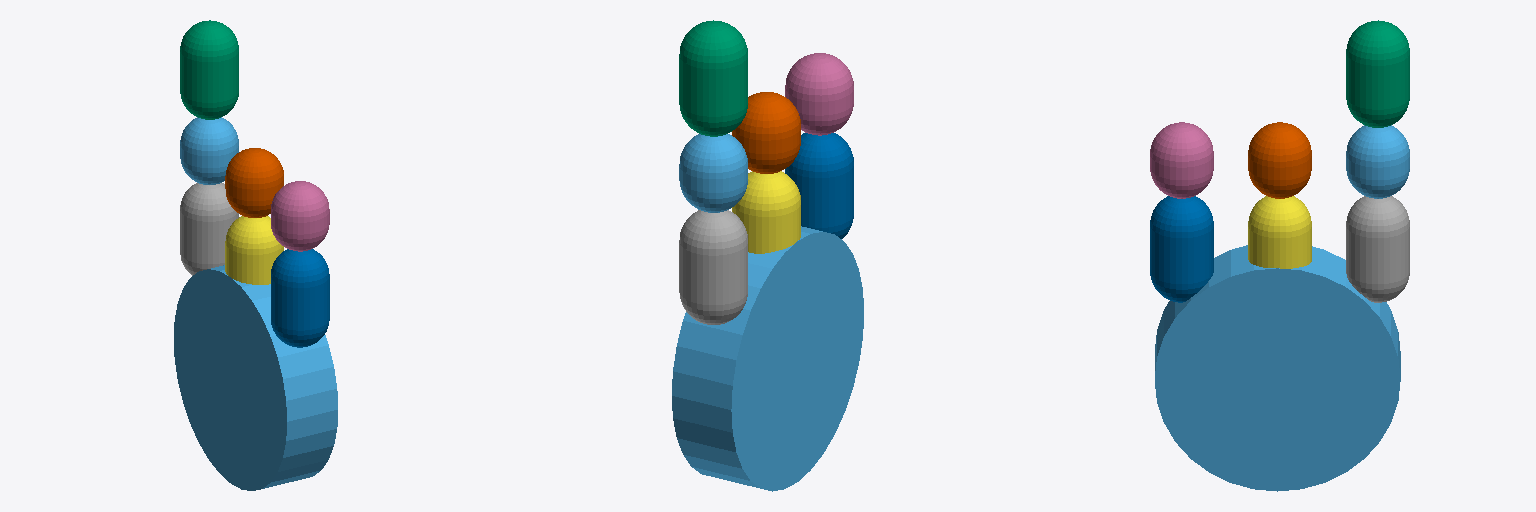
robot.urdf — DexterousHand:
<?xml version="1.0"?>
<robot name="DexterousHand">


    <link name="world"/>
    <joint name="world_to_palm" type="fixed">
        <parent link="world"/>
        <child link="palm"/>
        <origin xyz="0 0 0" rpy="0 0 0"/>
    </joint>
    <link name="palm">
        <inertial>
            <origin xyz="0 0 0.057" rpy="0 0 0"/>
            <mass value="0.30212892864"/>
            <inertia ixx="0.00049080844457568" ixy="0.0" ixz="0.0" iyy="0.00026746366246427523" iyz="0.0" izz="0.00026746366246427523"/>
        </inertial>
        <visual>
            <origin xyz="0 0 0.057" rpy="1.5708 0 1.5708"/>
            <geometry>
                <cylinder radius="0.057" length="0.0296"/>
            </geometry>
            <material name="default"/>
        </visual>
        <collision>
            <origin xyz="0 0 0.057" rpy="1.5708 0 1.5708"/>
            <geometry>
                <cylinder radius="0.057" length="0.0296"/>
            </geometry>
        </collision>
    </link>

    
    <joint name="thumb_joint1" type="revolute">
        <parent link="palm"/>
        <child link="thumb_base"/>
        <origin xyz="0.0 0.0 0.0" rpy="0.0 0.0 0.0"/>
        <axis xyz="1 0 0"/>
        <limit lower="0.0" upper="0.0" effort="1.0" velocity="1.0"/>
    </joint>

    <link name="thumb_base"></link>

    <joint name="thumb_joint2" type="revolute">
        <parent link="thumb_base"/>
        <child link="thumb_proximal"/>
        <origin xyz="0.0 0.0 0.0" rpy="0.0 0.0 0.0"/>
        <axis xyz="0 1 0"/>
        <limit lower="0.0" upper="0.0" effort="1.0" velocity="1.0"/>
    </joint>

    <link name="thumb_proximal">
    </link>

    <joint name="thumb_joint3" type="revolute">
        <parent link="thumb_proximal"/>
        <child link="thumb_knuckle"/>
        <origin xyz="0.0 0.0 0.0" rpy="0.0 0.0 0.0"/>
        <axis xyz="1 0 0"/>
        <limit lower="0.0" upper="0.0" effort="1.0" velocity="1.0"/>
    </joint>

    <link name="thumb_knuckle"></link>

    <joint name="thumb_joint4" type="revolute">
        <parent link="thumb_knuckle"/>
        <child link="thumb_middle"/>
        <origin xyz="0 0 0" rpy="0 0 0"/> 
        <axis xyz="0 1 0"/>
        <limit lower="0.0" upper="0.0" effort="1.0" velocity="1.0"/>
    </joint>

    <link name="thumb_middle">
    </link>

    <joint name="thumb_joint5" type="revolute">
        <parent link="thumb_middle"/>
        <child link="thumb_distal"/>
        <origin xyz="0 0 0" rpy="0 0 0"/> 
        <axis xyz="0 1 0"/>
        <limit lower="0.0" upper="0.0" effort="1.0" velocity="1.0"/>
    </joint>

    <link name="thumb_distal">
    </link>

    
    <joint name="index_joint1" type="revolute">
        <parent link="palm"/>
        <child link="index_proximal"/>
        <origin xyz="0.0 0.0465 0.091" rpy="0.0 0.0 0.0"/>
        <axis xyz="0 1 0"/>
        <limit lower="-0.314" upper="2.23" effort="1.0" velocity="1.0"/>
    </joint>

    <link name="index_proximal">
        <inertial>
            <origin xyz="0 0 0.02655" rpy="0 0 0"/>
            <mass value="0.036540024998400006"/>
            <inertia ixx="1.058665009272394e-05" ixy="0.0" ixz="0.0" 
            iyy="1.058665009272394e-05" iyz="0.0" izz="4.001863537824769e-06"/>
        </inertial>
        <visual>
            <origin xyz="0 0 0.02655" rpy="0 0 0"/>
            <geometry>
                <cylinder radius="0.0148" length="0.0235"/>
            </geometry>
            <material name="default"/>
        </visual>
        <visual>
            <origin xyz="0 0 0.0148" rpy="0 0 0"/>
            <geometry>
                <sphere radius="0.0148"/>
            </geometry>
            <material name="default"/>
        </visual>
        <visual>
            <origin xyz="0 0 0.0383" rpy="0 0 0"/>
            <geometry>
                <sphere radius="0.0148"/>
            </geometry>
            <material name="default"/>
        </visual>
        <collision>
            <origin xyz="0 0 0.02655" rpy="0 0 0"/>
            <geometry>
                <cylinder radius="0.0148" length="0.0235"/>
            </geometry>
        </collision>
        <collision>
            <origin xyz="0 0 0.0148" rpy="0 0 0"/>
            <geometry>
                <sphere radius="0.0148"/>
            </geometry>
        </collision>
        <collision>
            <origin xyz="0 0 0.0383" rpy="0 0 0"/>
            <geometry>
                <sphere radius="0.0148"/>
            </geometry>
        </collision>
    </link>

    <joint name="index_joint2" type="revolute">
        <parent link="index_proximal"/>
        <child link="index_dummy"/>
        <origin xyz="0.0 0.0 0.038" rpy="0.0 0.0 0.0"/>
        <axis xyz="1 0 0"/>
        <limit lower="-1.047" upper="1.047" effort="1.0" velocity="1.0"/>
    </joint>

    <link name="index_dummy"></link>

    <joint name="index_joint3" type="revolute">
        <parent link="index_dummy"/>
        <child link="index_middle"/>
        <origin xyz="0 0 0.015100000000000002" rpy="0 0 0"/>
        <axis xyz="0 1 0"/>
        <limit lower="-0.506" upper="1.885" effort="1.0" velocity="1.0"/>
    </joint>

    <link name="index_middle">
        <inertial>
            <origin xyz="0 0 0.01805" rpy="0 0 0"/>
            <mass value="0.0248417119104"/>
            <inertia ixx="4.058162759109537e-06" ixy="0.0" ixz="0.0" 
            iyy="4.058162759109537e-06" iyz="0.0" izz="2.7206642884270085e-06"/>
        </inertial>
        <visual>
            <origin xyz="0 0 0.01805" rpy="0 0 0"/>
            <geometry>
                <cylinder radius="0.0148" length="0.006499999999999999"/>
            </geometry>
            <material name="default"/>
        </visual>
        <visual>
            <origin xyz="0 0 0.0148" rpy="0 0 0"/>
            <geometry>
                <sphere radius="0.0148"/>
            </geometry>
            <material name="default"/>
        </visual>
        <visual>
            <origin xyz="0 0 0.0213" rpy="0 0 0"/>
            <geometry>
                <sphere radius="0.0148"/>
            </geometry>
            <material name="default"/>
        </visual>
        <collision>
            <origin xyz="0 0 0.01805" rpy="0 0 0"/>
            <geometry>
                <cylinder radius="0.0148" length="0.006499999999999999"/>
            </geometry>
        </collision>
        <collision>
            <origin xyz="0 0 0.0148" rpy="0 0 0"/>
            <geometry>
                <sphere radius="0.0148"/>
            </geometry>
        </collision>
        <collision>
            <origin xyz="0 0 0.0213" rpy="0 0 0"/>
            <geometry>
                <sphere radius="0.0148"/>
            </geometry>
        </collision>
    </link>

    <joint name="index_joint4" type="revolute">
        <parent link="index_middle"/>
        <child link="index_distal"/>
        <origin xyz="0 0 0.0361" rpy="0 0 0"/> 
        <axis xyz="0 1 0"/>
        <limit lower="-0.366" upper="2.042" effort="1.0" velocity="1.0"/>
    </joint>

    <link name="index_distal">
        <inertial>
            <origin xyz="0 0 0.026" rpy="0 0 0"/>
            <mass value="0.035783075328"/>
            <inertia ixx="1.002260084553728e-05" ixy="0.0" ixz="0.0" 
            iyy="1.002260084553728e-05" iyz="0.0" izz="3.91896240992256e-06"/>
        </inertial>
        <visual>
            <origin xyz="0 0 0.026" rpy="0 0 0"/>
            <geometry>
                <cylinder radius="0.0148" length="0.022399999999999996"/>
            </geometry>
            <material name="default"/>
        </visual>
        <visual>
            <origin xyz="0 0 0.0148" rpy="0 0 0"/>
            <geometry>
                <sphere radius="0.0148"/>
            </geometry>
            <material name="default"/>
        </visual>
        <visual>
            <origin xyz="0 0 0.0372" rpy="0 0 0"/>
            <geometry>
                <sphere radius="0.0148"/>
            </geometry>
            <material name="default"/>
        </visual>
        <collision>
            <origin xyz="0 0 0.026" rpy="0 0 0"/>
            <geometry>
                <cylinder radius="0.0148" length="0.022399999999999996"/>
            </geometry>
        </collision>
        <collision>
            <origin xyz="0 0 0.0148" rpy="0 0 0"/>
            <geometry>
                <sphere radius="0.0148"/>
            </geometry>
        </collision>
        <collision>
            <origin xyz="0 0 0.0372" rpy="0 0 0"/>
            <geometry>
                <sphere radius="0.0148"/>
            </geometry>
        </collision>
    </link>

    
    <joint name="middle_joint1" type="revolute">
        <parent link="palm"/>
        <child link="middle_proximal"/>
        <origin xyz="0.0 0.0011 0.091" rpy="0.0 0.0 0.0"/>
        <axis xyz="0 1 0"/>
        <limit lower="-0.314" upper="2.23" effort="1.0" velocity="1.0"/>
    </joint>

    <link name="middle_proximal">
        <inertial>
            <origin xyz="0 0 0.02655" rpy="0 0 0"/>
            <mass value="0.036540024998400006"/>
            <inertia ixx="1.058665009272394e-05" ixy="0.0" ixz="0.0" 
            iyy="1.058665009272394e-05" iyz="0.0" izz="4.001863537824769e-06"/>
        </inertial>
        <visual>
            <origin xyz="0 0 0.02655" rpy="0 0 0"/>
            <geometry>
                <cylinder radius="0.0148" length="0.0235"/>
            </geometry>
            <material name="default"/>
        </visual>
        <visual>
            <origin xyz="0 0 0.0148" rpy="0 0 0"/>
            <geometry>
                <sphere radius="0.0148"/>
            </geometry>
            <material name="default"/>
        </visual>
        <visual>
            <origin xyz="0 0 0.0383" rpy="0 0 0"/>
            <geometry>
                <sphere radius="0.0148"/>
            </geometry>
            <material name="default"/>
        </visual>
        <collision>
            <origin xyz="0 0 0.02655" rpy="0 0 0"/>
            <geometry>
                <cylinder radius="0.0148" length="0.0235"/>
            </geometry>
        </collision>
        <collision>
            <origin xyz="0 0 0.0148" rpy="0 0 0"/>
            <geometry>
                <sphere radius="0.0148"/>
            </geometry>
        </collision>
        <collision>
            <origin xyz="0 0 0.0383" rpy="0 0 0"/>
            <geometry>
                <sphere radius="0.0148"/>
            </geometry>
        </collision>
    </link>

    <joint name="middle_joint2" type="revolute">
        <parent link="middle_proximal"/>
        <child link="middle_dummy"/>
        <origin xyz="0.0 0.0 0.038" rpy="0.0 0.0 0.0"/>
        <axis xyz="1 0 0"/>
        <limit lower="-1.047" upper="1.047" effort="1.0" velocity="1.0"/>
    </joint>

    <link name="middle_dummy"></link>

    <joint name="middle_joint3" type="revolute">
        <parent link="middle_dummy"/>
        <child link="middle_middle"/>
        <origin xyz="0 0 0.015100000000000002" rpy="0 0 0"/>
        <axis xyz="0 1 0"/>
        <limit lower="-0.506" upper="1.885" effort="1.0" velocity="1.0"/>
    </joint>

    <link name="middle_middle">
        <inertial>
            <origin xyz="0 0 0.01805" rpy="0 0 0"/>
            <mass value="0.0248417119104"/>
            <inertia ixx="4.058162759109537e-06" ixy="0.0" ixz="0.0" 
            iyy="4.058162759109537e-06" iyz="0.0" izz="2.7206642884270085e-06"/>
        </inertial>
        <visual>
            <origin xyz="0 0 0.01805" rpy="0 0 0"/>
            <geometry>
                <cylinder radius="0.0148" length="0.006499999999999999"/>
            </geometry>
            <material name="default"/>
        </visual>
        <visual>
            <origin xyz="0 0 0.0148" rpy="0 0 0"/>
            <geometry>
                <sphere radius="0.0148"/>
            </geometry>
            <material name="default"/>
        </visual>
        <visual>
            <origin xyz="0 0 0.0213" rpy="0 0 0"/>
            <geometry>
                <sphere radius="0.0148"/>
            </geometry>
            <material name="default"/>
        </visual>
        <collision>
            <origin xyz="0 0 0.01805" rpy="0 0 0"/>
            <geometry>
                <cylinder radius="0.0148" length="0.006499999999999999"/>
            </geometry>
        </collision>
        <collision>
            <origin xyz="0 0 0.0148" rpy="0 0 0"/>
            <geometry>
                <sphere radius="0.0148"/>
            </geometry>
        </collision>
        <collision>
            <origin xyz="0 0 0.0213" rpy="0 0 0"/>
            <geometry>
                <sphere radius="0.0148"/>
            </geometry>
        </collision>
    </link>

    <joint name="middle_joint4" type="revolute">
        <parent link="middle_middle"/>
        <child link="middle_distal"/>
        <origin xyz="0 0 0.0361" rpy="0 0 0"/> 
        <axis xyz="0 1 0"/>
        <limit lower="0.0" upper="0.0" effort="1.0" velocity="1.0"/>
    </joint>

    <link name="middle_distal">
    </link>

    
    <joint name="ring_joint1" type="revolute">
        <parent link="palm"/>
        <child link="ring_proximal"/>
        <origin xyz="0.0 0.0 0.0" rpy="0.0 0.0 0.0"/>
        <axis xyz="1 0 0"/>
        <limit lower="0.0" upper="0.0" effort="1.0" velocity="1.0"/>
    </joint>

    <link name="ring_proximal">
    </link>

    <joint name="ring_joint2" type="revolute">
        <parent link="ring_proximal"/>
        <child link="ring_dummy"/>
        <origin xyz="0.0 0.0 0.0" rpy="0.0 0.0 0.0"/>
        <axis xyz="0 1 0"/>
        <limit lower="0.0" upper="0.0" effort="1.0" velocity="1.0"/>
    </joint>

    <link name="ring_dummy"></link>

    <joint name="ring_joint3" type="revolute">
        <parent link="ring_dummy"/>
        <child link="ring_middle"/>
        <origin xyz="0 0 0" rpy="0 0 0"/>
        <axis xyz="0 1 0"/>
        <limit lower="0.0" upper="0.0" effort="1.0" velocity="1.0"/>
    </joint>

    <link name="ring_middle">
    </link>

    <joint name="ring_joint4" type="revolute">
        <parent link="ring_middle"/>
        <child link="ring_distal"/>
        <origin xyz="0 0 0" rpy="0 0 0"/> 
        <axis xyz="0 1 0"/>
        <limit lower="0.0" upper="0.0" effort="1.0" velocity="1.0"/>
    </joint>

    <link name="ring_distal">
    </link>

    
    <joint name="little_joint0" type="revolute">
        <parent link="palm"/>
        <child link="little_base"/>
        <origin xyz="0.0 0.0 0.0" rpy="0.0 0.0 0.0"/>
        <axis xyz="0 1 0"/>
        <limit lower="0.0" upper="0.0" effort="1.0" velocity="1.0"/>
    </joint>

    <link name="little_base"></link>

    <joint name="little_joint1" type="revolute">
        <parent link="little_base"/>
        <child link="little_proximal"/>
        <origin xyz="0.0 -0.0443 0.091" rpy="-0.0 -0.0 -0.0"/>
        <axis xyz="0 1 0"/>
        <limit lower="-0.314" upper="2.23" effort="1.0" velocity="1.0"/>
    </joint>

    <link name="little_proximal">
        <inertial>
            <origin xyz="0 0 0.02655" rpy="0 0 0"/>
            <mass value="0.036540024998400006"/>
            <inertia ixx="1.058665009272394e-05" ixy="0.0" ixz="0.0" 
            iyy="1.058665009272394e-05" iyz="0.0" izz="4.001863537824769e-06"/>
        </inertial>
        <visual>
            <origin xyz="0 0 0.02655" rpy="0 0 0"/>
            <geometry>
                <cylinder radius="0.0148" length="0.0235"/>
            </geometry>
            <material name="default"/>
        </visual>
        <visual>
            <origin xyz="0 0 0.0148" rpy="0 0 0"/>
            <geometry>
                <sphere radius="0.0148"/>
            </geometry>
            <material name="default"/>
        </visual>
        <visual>
            <origin xyz="0 0 0.0383" rpy="0 0 0"/>
            <geometry>
                <sphere radius="0.0148"/>
            </geometry>
            <material name="default"/>
        </visual>
        <collision>
            <origin xyz="0 0 0.02655" rpy="0 0 0"/>
            <geometry>
                <cylinder radius="0.0148" length="0.0235"/>
            </geometry>
        </collision>
        <collision>
            <origin xyz="0 0 0.0148" rpy="0 0 0"/>
            <geometry>
                <sphere radius="0.0148"/>
            </geometry>
        </collision>
        <collision>
            <origin xyz="0 0 0.0383" rpy="0 0 0"/>
            <geometry>
                <sphere radius="0.0148"/>
            </geometry>
        </collision>
    </link>

    <joint name="little_joint2" type="revolute">
        <parent link="little_proximal"/>
        <child link="little_dummy"/>
        <origin xyz="0.0 0.0 0.038" rpy="0.0 0.0 0.0"/>
        <axis xyz="1 0 0"/>
        <limit lower="-1.047" upper="1.047" effort="1.0" velocity="1.0"/>
    </joint>

    <link name="little_dummy"></link>

    <joint name="little_joint3" type="revolute">
        <parent link="little_dummy"/>
        <child link="little_middle"/>
        <origin xyz="0 0 0.015100000000000002" rpy="0 0 0"/>
        <axis xyz="0 1 0"/>
        <limit lower="-0.506" upper="1.885" effort="1.0" velocity="1.0"/>
    </joint>

    <link name="little_middle">
        <inertial>
            <origin xyz="0 0 0.01805" rpy="0 0 0"/>
            <mass value="0.0248417119104"/>
            <inertia ixx="4.058162759109537e-06" ixy="0.0" ixz="0.0" 
            iyy="4.058162759109537e-06" iyz="0.0" izz="2.7206642884270085e-06"/>
        </inertial>
        <visual>
            <origin xyz="0 0 0.01805" rpy="0 0 0"/>
            <geometry>
                <cylinder radius="0.0148" length="0.006499999999999999"/>
            </geometry>
            <material name="default"/>
        </visual>
        <visual>
            <origin xyz="0 0 0.0148" rpy="0 0 0"/>
            <geometry>
                <sphere radius="0.0148"/>
            </geometry>
            <material name="default"/>
        </visual>
        <visual>
            <origin xyz="0 0 0.0213" rpy="0 0 0"/>
            <geometry>
                <sphere radius="0.0148"/>
            </geometry>
            <material name="default"/>
        </visual>
        <collision>
            <origin xyz="0 0 0.01805" rpy="0 0 0"/>
            <geometry>
                <cylinder radius="0.0148" length="0.006499999999999999"/>
            </geometry>
        </collision>
        <collision>
            <origin xyz="0 0 0.0148" rpy="0 0 0"/>
            <geometry>
                <sphere radius="0.0148"/>
            </geometry>
        </collision>
        <collision>
            <origin xyz="0 0 0.0213" rpy="0 0 0"/>
            <geometry>
                <sphere radius="0.0148"/>
            </geometry>
        </collision>
    </link>

    <joint name="little_joint4" type="revolute">
        <parent link="little_middle"/>
        <child link="little_distal"/>
        <origin xyz="0 0 0.0361" rpy="0 0 0"/>
        <axis xyz="0 1 0"/>
        <limit lower="0.0" upper="0.0" effort="1.0" velocity="1.0"/>
    </joint>

    <link name="little_distal">
    </link>

</robot>

--- Render facts (derived) ---
3 views of the same robot in one strip: view 1: azimuth 30°, elevation 25°; view 2: azimuth 150°, elevation 25°; view 3: azimuth 270°, elevation 25° (orthographic).
Robot: DexterousHand — 24 links, 23 joints (22 revolute, 1 fixed); root link world; default pose: every joint at zero.
Visible links, largest first — view 1: palm, little_proximal, index_distal, index_proximal, little_middle, middle_middle, index_middle, middle_proximal; view 2: palm, index_proximal, index_distal, little_proximal, index_middle, little_middle, middle_proximal, middle_middle; view 3: palm, index_distal, index_proximal, little_proximal, middle_proximal, middle_middle, little_middle, index_middle.
Link boxes in pixels (x1,y1,x2,y2): palm: [174, 265, 337, 490]; little_proximal: [271, 249, 329, 347]; index_distal: [180, 20, 238, 119]; index_proximal: [180, 183, 238, 275]; little_middle: [271, 181, 329, 251]; middle_middle: [225, 148, 283, 217]; index_middle: [180, 117, 238, 184]; middle_proximal: [225, 216, 283, 284]; palm: [672, 226, 863, 491]; index_proximal: [679, 210, 747, 324]; index_distal: [679, 20, 747, 136]; little_proximal: [785, 133, 853, 238]; index_middle: [679, 134, 747, 212]; little_middle: [785, 53, 853, 135]; middle_proximal: [732, 171, 800, 253]; middle_middle: [732, 92, 800, 173]; palm: [1155, 245, 1400, 491]; index_distal: [1346, 20, 1409, 127]; index_proximal: [1346, 196, 1409, 302]; little_proximal: [1150, 196, 1213, 302]; middle_proximal: [1248, 196, 1311, 268]; middle_middle: [1248, 122, 1311, 198]; little_middle: [1150, 122, 1213, 198]; index_middle: [1346, 125, 1409, 198].
Size in the robot's own frame: 0.0296 by 0.1204 by 0.2322 metres.
Geometry: primitives only (box / cylinder / sphere), no mesh files.
